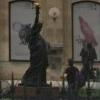Statue: (16, 7, 56, 95)
